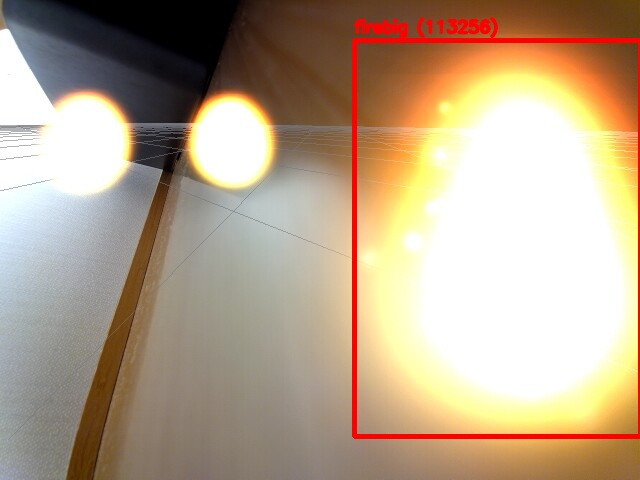firebig: (354, 40, 640, 436)
